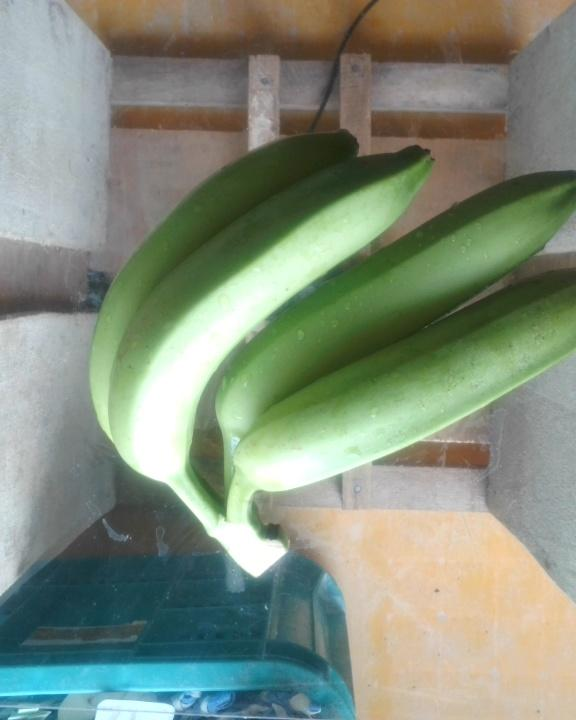SPOT: (72, 101, 576, 595)
